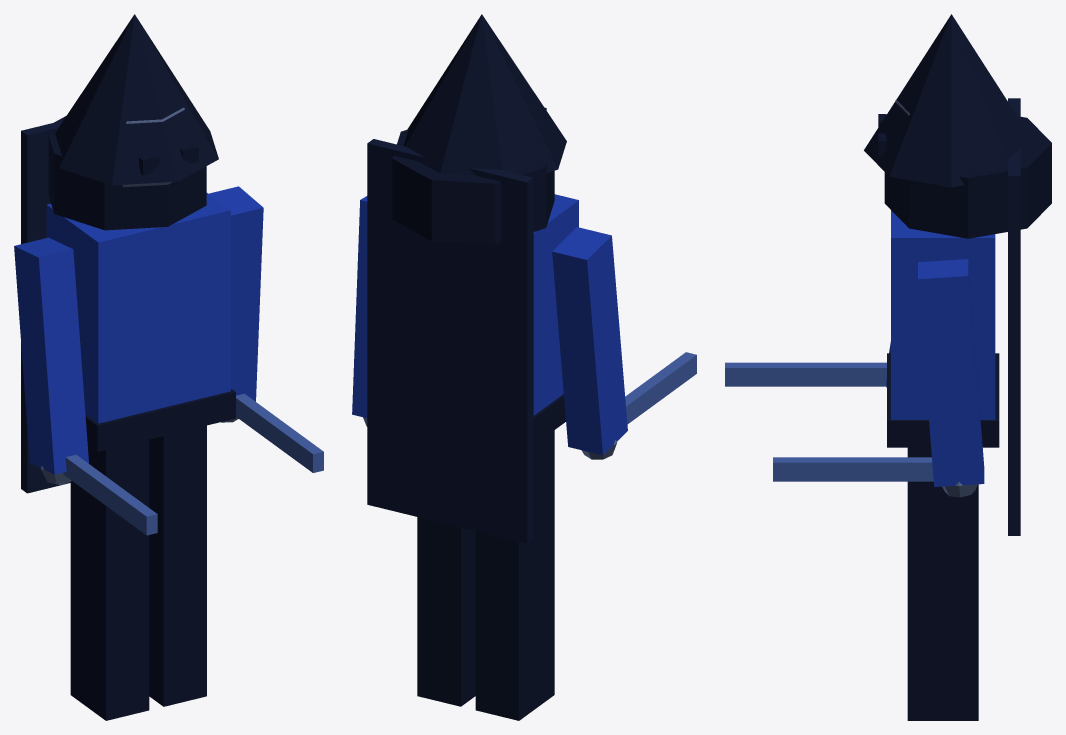
The model's file is SM_Champion_9009_Lunis.glb.
The picture shows the model from 3 angles, left to right: view 1: azimuth 30°, elevation 25°; view 2: azimuth 150°, elevation 25°; view 3: azimuth 270°, elevation 25°; orthographic projection.
Visible parts, largest first — view 1: SM_Champion_9009_Lunis; view 2: SM_Champion_9009_Lunis; view 3: SM_Champion_9009_Lunis.
Part boxes in pixels (x1,y1,x2,y2): SM_Champion_9009_Lunis: (14,14,323,720); SM_Champion_9009_Lunis: (352,14,696,720); SM_Champion_9009_Lunis: (725,14,1051,720).
Bounding box in the file's own units: 0.6124 × 1.74 × 0.7573.
